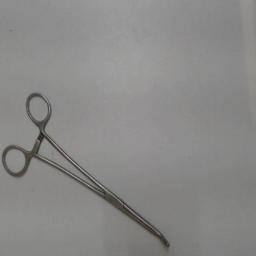Lahey Forceps: (0, 88, 172, 250)
